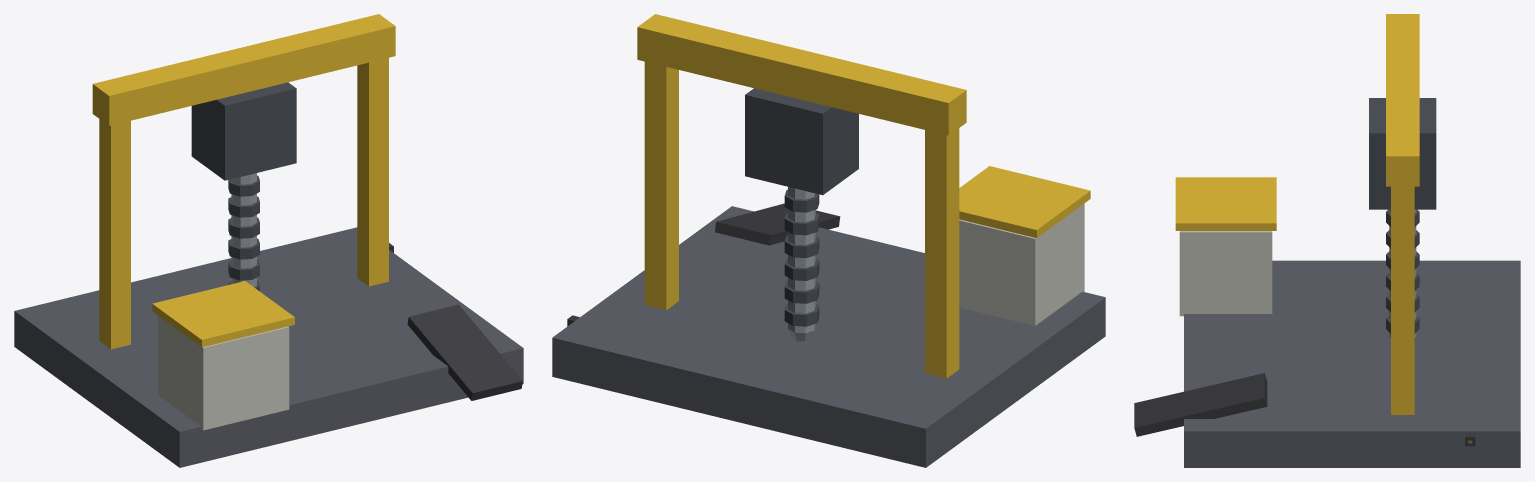
Rendered from DeepDrill.fbx.
The picture shows the model from 3 angles, left to right: view 1: azimuth 30°, elevation 25°; view 2: azimuth 150°, elevation 25°; view 3: azimuth 270°, elevation 25°; orthographic projection. The views are drawn at different scales.
Visible parts, largest first — view 1: DeepDrill_Body, DeepDrill_Drill; view 2: DeepDrill_Body, DeepDrill_Drill; view 3: DeepDrill_Body, DeepDrill_Drill.
Part boxes in pixels (x1,y1,x2,y2): DeepDrill_Body: (14, 14, 523, 467); DeepDrill_Drill: (228, 173, 259, 291); DeepDrill_Body: (552, 14, 1105, 467); DeepDrill_Drill: (784, 187, 819, 341); DeepDrill_Body: (1134, 14, 1520, 467); DeepDrill_Drill: (1386, 209, 1419, 340).
Size of the model in its own units: 2.46 by 1.95 by 2.29.
